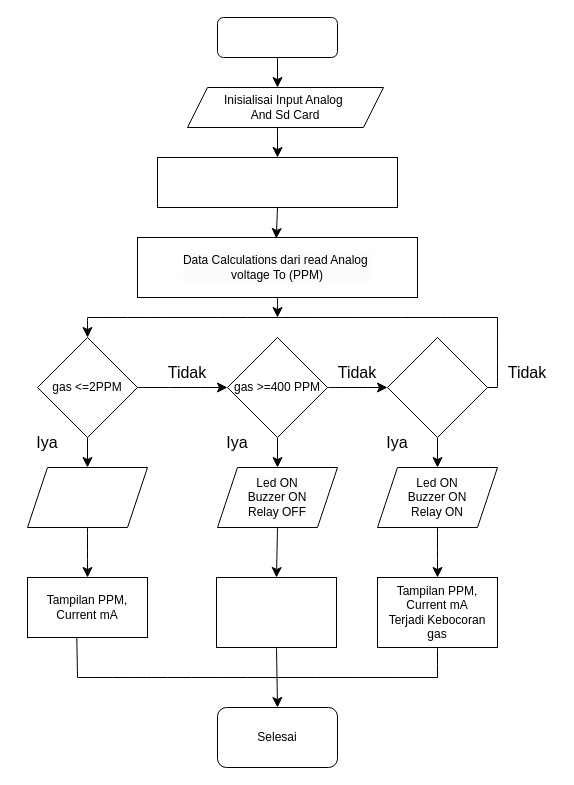
This 574x785 diagram has some shape labels left out. The centre of each missing label's shape, as x and y in pixels:
"gas >= 1000 PPM" belongs at pixel 437 387.
"Led ON Buzzer OFF Relay OFF" belongs at pixel 87 497.
"Mulai" belongs at pixel 277 37.
"Read Sensor Values" belongs at pixel 277 182.
"Tampilan PPM, Current mA Warning !!!" belongs at pixel 276 612.
